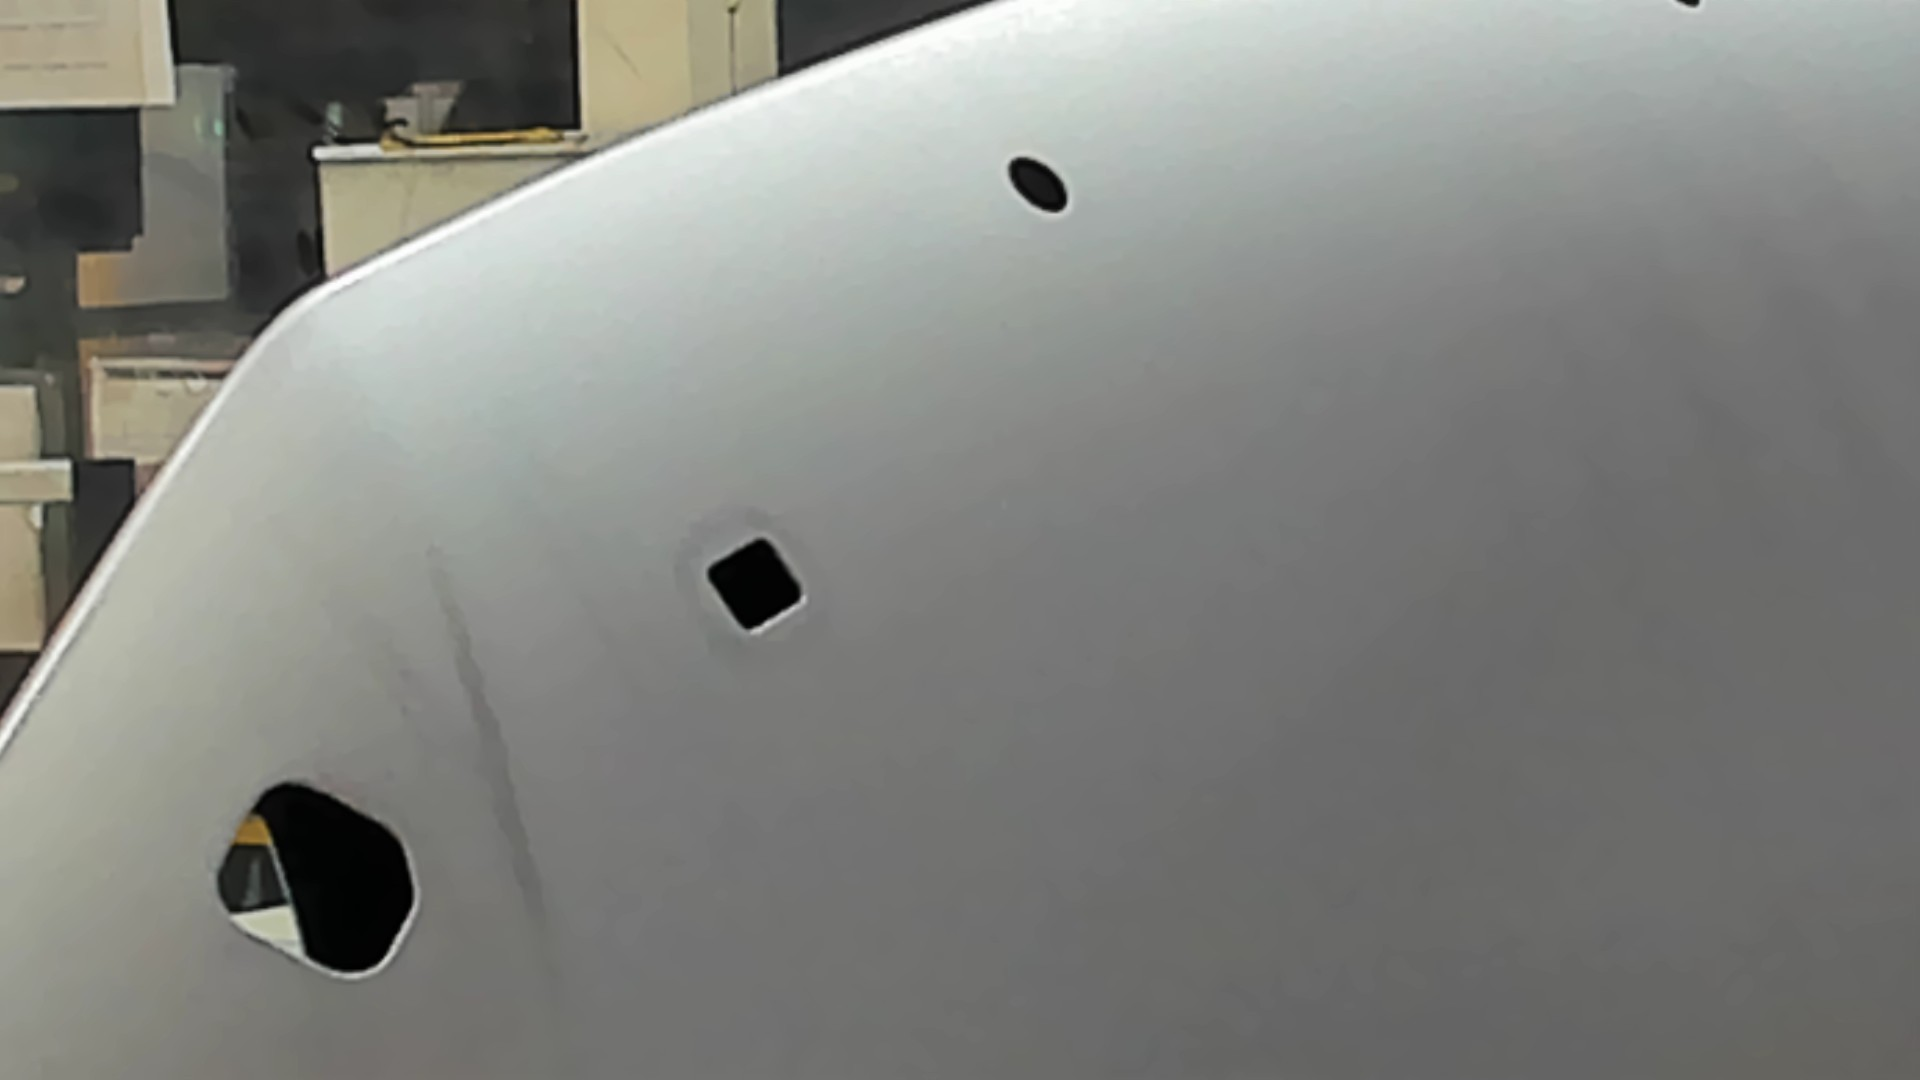Agujero: (704, 534, 804, 636), (1006, 156, 1069, 212)
Agujerote: (216, 781, 421, 981)
